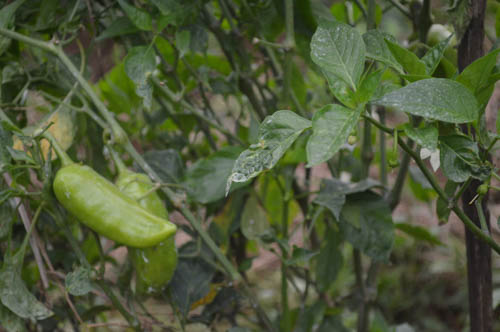ChiliPepper: (57, 166, 176, 246), (121, 170, 178, 291)
